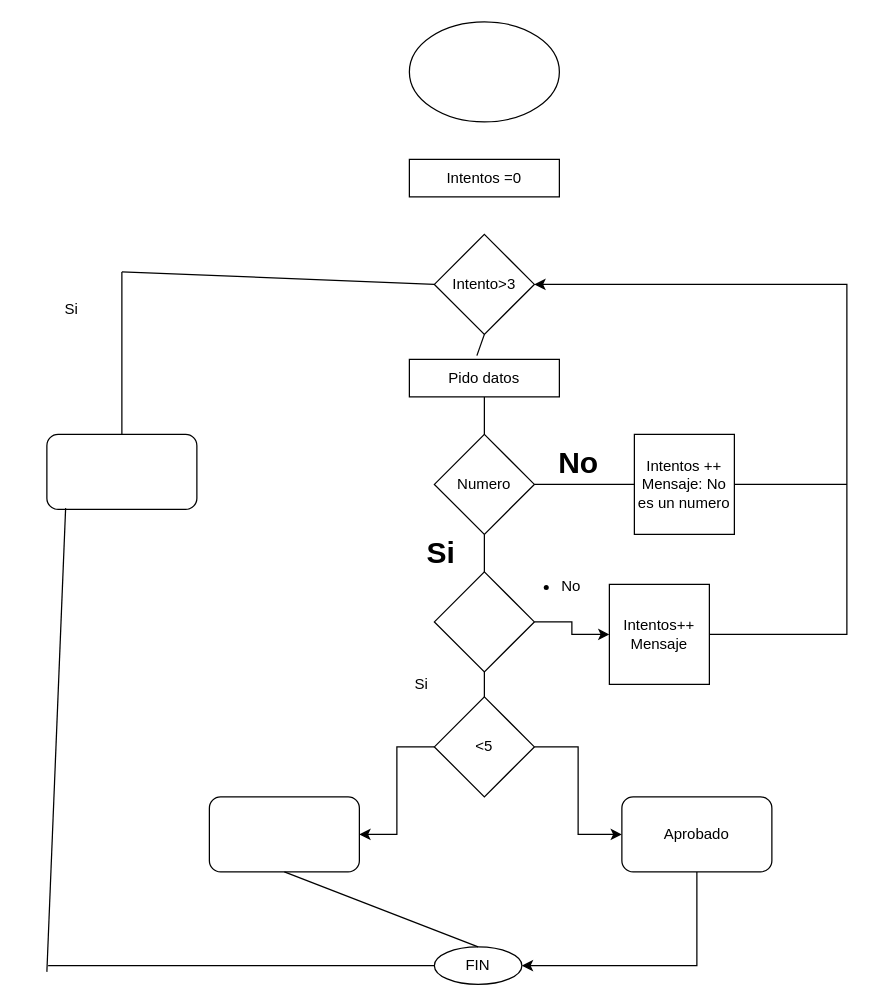
Some shapes in this 879 by 1006 pixel diagram are drawn without their labels. Each missing label, with the centre of its shape:
Inicio: the point at 483,71
Mensaje: the point at 121,471
Numero 0-10: the point at 483,621
Suspenso: the point at 283,834
